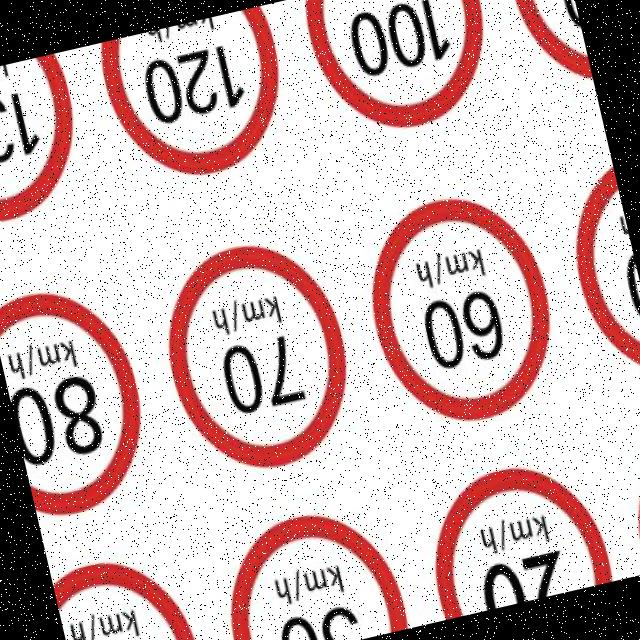speed_limit_100: (299, 0, 516, 162)
speed_limit_120: (98, 4, 303, 192)
speed_limit_20: (407, 444, 626, 622)
speed_limit_30: (208, 495, 415, 640)
speed_limit_50: (551, 154, 640, 390)
speed_limit_60: (347, 180, 572, 444)
speed_limit_70: (142, 223, 372, 492)
speed_limit_80: (0, 267, 167, 521)
